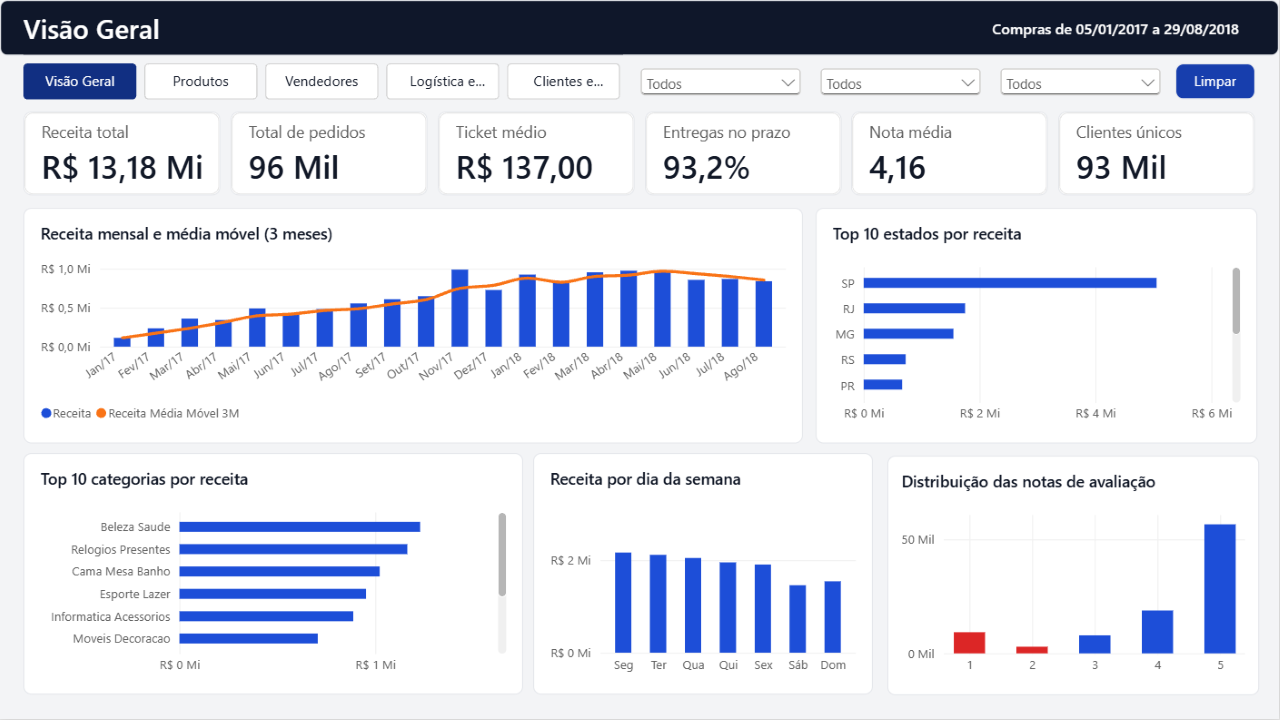

The dashboard page shown, as its layout file describes it:
{"tool":"powerbi","page":{"name":"Visão Geral","canvas":[1280,720],"ordinal":0},"visuals":[{"type":"shape","box":[0,0,1280,56],"z":0},{"type":"cardVisual","fields":{"Data":["_Medidas.Receita"]},"box":[24,112,197,84],"z":1000},{"type":"cardVisual","fields":{"Data":["_Medidas.Pedidos"]},"box":[231,112,197,84],"z":2000},{"type":"cardVisual","fields":{"Data":["_Medidas.Ticket Médio"]},"box":[438,112,197,84],"z":3000},{"type":"cardVisual","fields":{"Data":["_Medidas.% Entregas no Prazo"]},"box":[645,112,197,84],"z":4000},{"type":"cardVisual","fields":{"Data":["_Medidas.Nota Média"]},"box":[852,112,197,84],"z":5000},{"type":"cardVisual","fields":{"Data":["_Medidas.Clientes Únicos"]},"box":[1059,112,197,84],"z":6000},{"type":"lineClusteredColumnComboChart","title":"Receita mensal e média móvel (3 meses)","fields":{"Category":["Dim_Calendario.Mês/Ano"],"Y":["_Medidas.Receita"],"Y2":["_Medidas.Receita Média Móvel 3M"]},"box":[24,208,780,236],"z":7000},{"type":"clusteredBarChart","title":"Top 10 estados por receita","fields":{"Category":["Dim_Cliente.UF"],"Y":["_Medidas.Receita"]},"box":[816,208,442,236],"z":8000},{"type":"clusteredBarChart","title":"Top 10 categorias por receita","fields":{"Category":["Dim_Produto.Categoria"],"Y":["_Medidas.Receita"]},"box":[24,454,500,242],"z":9000},{"type":"clusteredColumnChart","title":"Receita por dia da semana","fields":{"Category":["Dim_Calendario.Dia da Semana"],"Y":["_Medidas.Receita"]},"box":[534,454,340,242],"z":10000},{"type":"clusteredColumnChart","title":"Distribuição das notas de avaliação","fields":{"Category":["Fato_Pedidos.Nota"],"Y":["_Medidas.Pedidos"]},"box":[888,456,372,240],"z":11000},{"type":"textbox","box":[24,10,700,36],"z":12000},{"type":"cardVisual","fields":{"Data":["_Medidas.Período de Dados"]},"box":[860,16,396,24],"z":13000},{"type":"pageNavigator","box":[24,64,600,36],"z":14000},{"type":"slicer","fields":{"Values":["Dim_Calendario.Ano"]},"box":[636,64,170,36],"z":15000},{"type":"slicer","fields":{"Values":["Dim_Cliente.Região"]},"box":[816,64,170,36],"z":16000},{"type":"slicer","fields":{"Values":["Dim_Cliente.UF"]},"box":[996,64,170,36],"z":17000},{"type":"actionButton","box":[1176,64,80,36],"z":18000}]}

Visuals, with their boxes in screenshot pixels (x1, y1, x2, y2), scaled from the page's 1280x720 canvas onto the 1280x720 screenshot:
shape: bbox=(0, 0, 1279, 56)
cardVisual - _Medidas.Receita: bbox=(24, 112, 221, 196)
cardVisual - _Medidas.Pedidos: bbox=(231, 112, 428, 196)
cardVisual - _Medidas.Ticket Médio: bbox=(438, 112, 635, 196)
cardVisual - _Medidas.% Entregas no Prazo: bbox=(645, 112, 842, 196)
cardVisual - _Medidas.Nota Média: bbox=(852, 112, 1049, 196)
cardVisual - _Medidas.Clientes Únicos: bbox=(1059, 112, 1256, 196)
"Receita mensal e média móvel (3 meses)" lineClusteredColumnComboChart: bbox=(24, 208, 804, 444)
"Top 10 estados por receita" clusteredBarChart: bbox=(816, 208, 1258, 444)
"Top 10 categorias por receita" clusteredBarChart: bbox=(24, 454, 524, 696)
"Receita por dia da semana" clusteredColumnChart: bbox=(534, 454, 874, 696)
"Distribuição das notas de avaliação" clusteredColumnChart: bbox=(888, 456, 1260, 696)
textbox: bbox=(24, 10, 724, 46)
cardVisual - _Medidas.Período de Dados: bbox=(860, 16, 1256, 40)
pageNavigator: bbox=(24, 64, 624, 100)
slicer - Dim_Calendario.Ano: bbox=(636, 64, 806, 100)
slicer - Dim_Cliente.Região: bbox=(816, 64, 986, 100)
slicer - Dim_Cliente.UF: bbox=(996, 64, 1166, 100)
actionButton: bbox=(1176, 64, 1256, 100)
